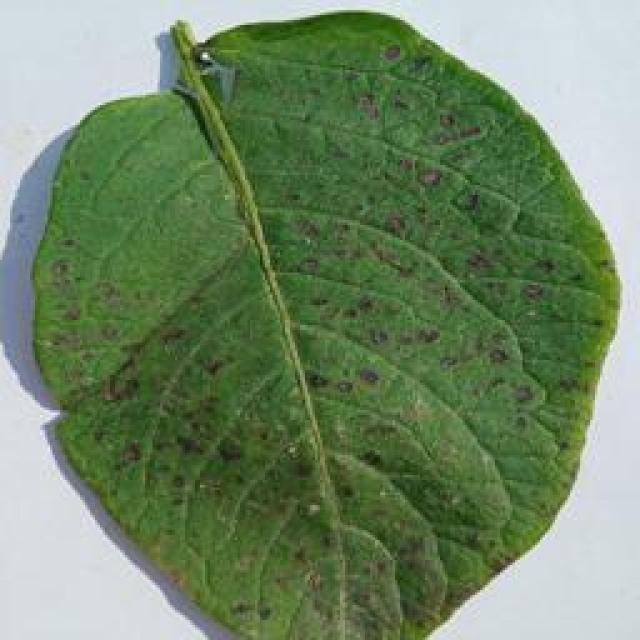Potato_Early_Blight: (28, 5, 640, 640)
